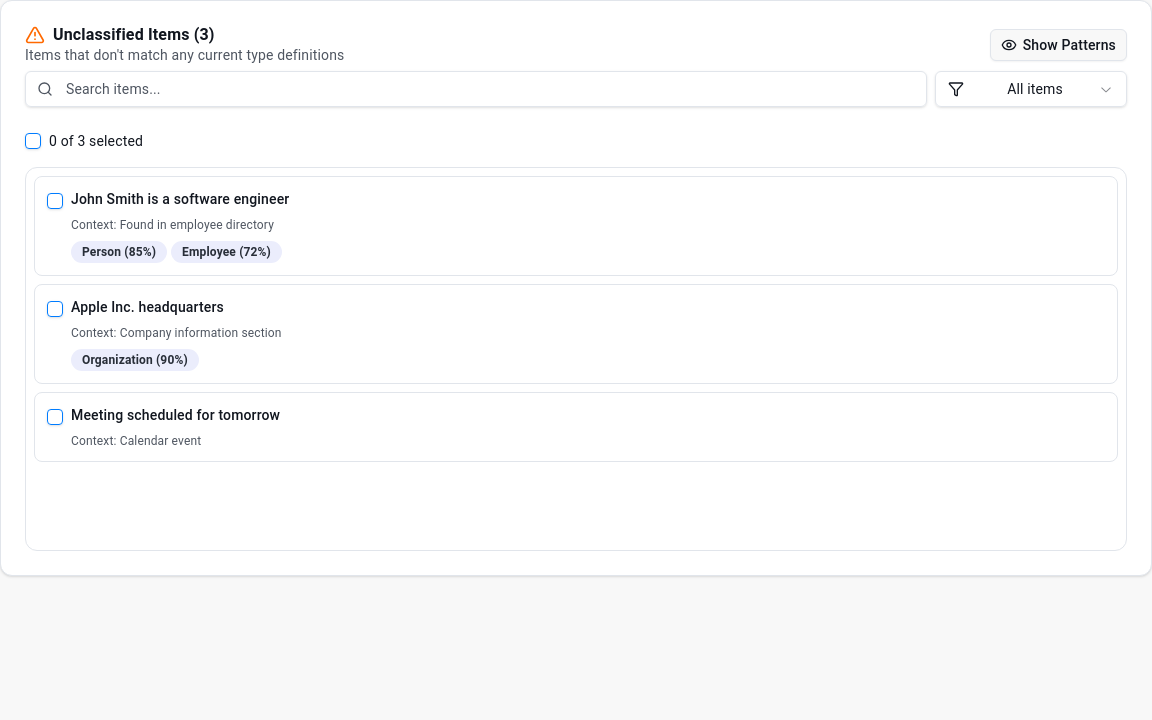
Scenario: UnclassifiedItemsPanel › shows and hides patterns
The width and height of the screenshot is (1152, 720).
Expected: the text "Detected Patterns" is not shown
// Show patterns
What coordinates should you click on to do the following:
click the button "Show Patterns"
I would click on:
 (1058, 45)
Its box is [990, 29, 1127, 61].
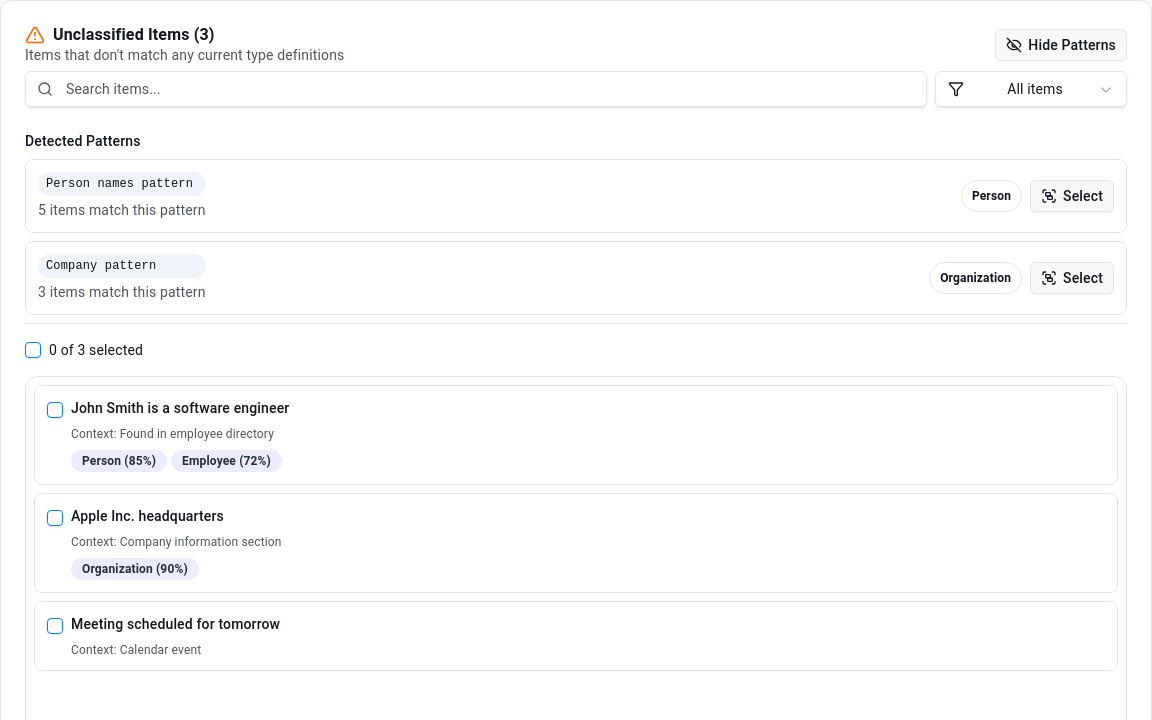
Expected: the heading "Detected Patterns" is shown, [25, 133, 140, 149]
Expected: the text "Person names pattern" is shown, [38, 172, 206, 196]
Expected: the text "5 items match this pattern" is shown, [38, 200, 206, 220]
// Hide patterns
What coordinates should you click on to do the following:
click the button "Hide Patterns"
I would click on:
 (1061, 45)
Its box is [995, 29, 1127, 61].
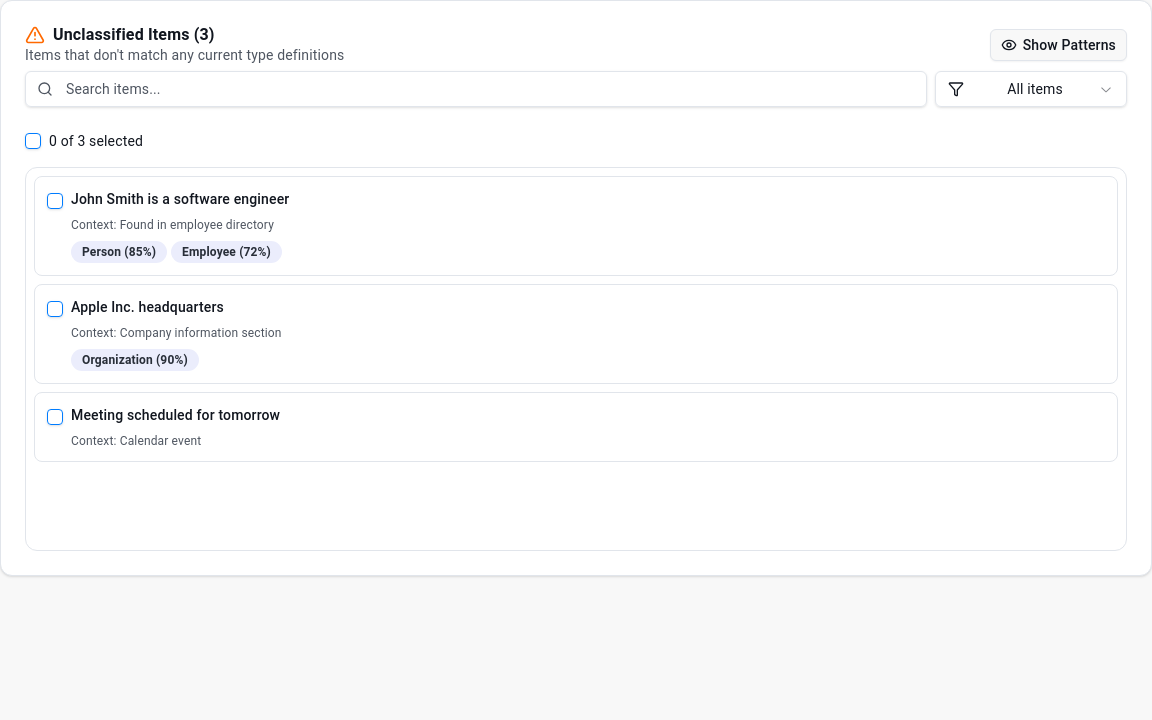
Expected: the heading "Detected Patterns" is gone
